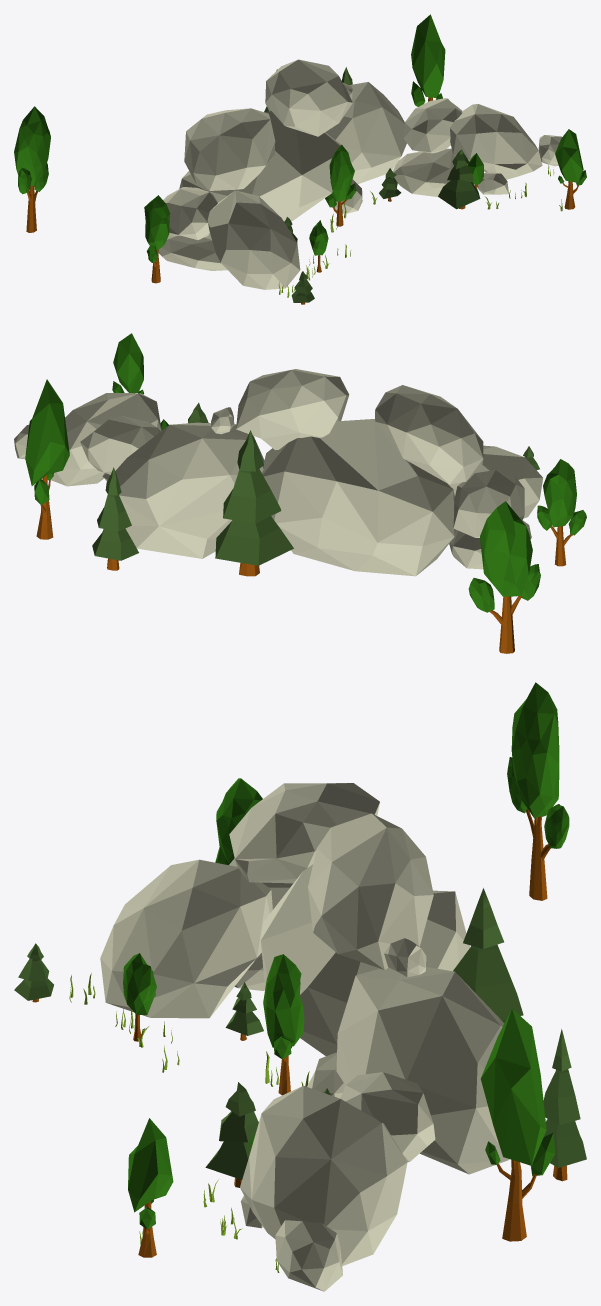
File: rocks_and_trees.obj
3 renders of one model, top to bottom at view 1: azimuth 30°, elevation 25°; view 2: azimuth 150°, elevation 25°; view 3: azimuth 270°, elevation 25°, orthographic. The views are drawn at different scales.
Visible parts, largest first — view 1: obj4, obj14, obj6, obj1, obj3, obj9, obj20, obj21, obj2, obj10, obj13, obj5 (+12 smaller); view 2: obj6, obj1, obj14, obj3, obj27, obj20, obj9, obj21, obj13, obj2, obj18, obj23 (+7 smaller); view 3: obj1, obj9, obj4, obj3, obj6, obj14, obj21, obj20, obj2, obj27, obj7, obj23 (+12 smaller).
Boxes of the visible parts, x1,y1,x2,y2 form: obj4: [207, 190, 300, 289]; obj14: [184, 108, 275, 190]; obj6: [179, 111, 341, 221]; obj1: [325, 82, 406, 183]; obj3: [265, 59, 352, 136]; obj9: [450, 104, 542, 179]; obj20: [14, 106, 50, 194]; obj21: [411, 14, 445, 106]; obj2: [403, 98, 462, 153]; obj10: [392, 148, 474, 197]; obj13: [163, 187, 217, 239]; obj5: [158, 233, 227, 270]; obj6: [262, 419, 455, 576]; obj1: [115, 422, 264, 558]; obj14: [375, 385, 483, 484]; obj3: [236, 369, 349, 450]; obj27: [215, 430, 293, 565]; obj20: [468, 501, 540, 612]; obj9: [51, 393, 161, 486]; obj21: [25, 379, 69, 505]; obj13: [453, 470, 524, 537]; obj2: [80, 415, 160, 474]; obj18: [537, 459, 586, 535]; obj23: [92, 467, 138, 560]; obj1: [336, 967, 509, 1174]; obj9: [240, 1085, 407, 1265]; obj4: [100, 859, 272, 1018]; obj3: [308, 813, 433, 969]; obj6: [260, 864, 469, 1056]; obj14: [229, 783, 379, 883]; obj21: [480, 1009, 555, 1176]; obj20: [507, 682, 569, 848]; obj2: [340, 1072, 435, 1162]; obj27: [453, 888, 523, 1023]; obj7: [275, 1220, 342, 1291]; obj23: [543, 1029, 586, 1167].
Bounding box in the file's own units: 1.63 × 0.4819 × 0.9407.
Materials: 5 (3 with a texture image).
